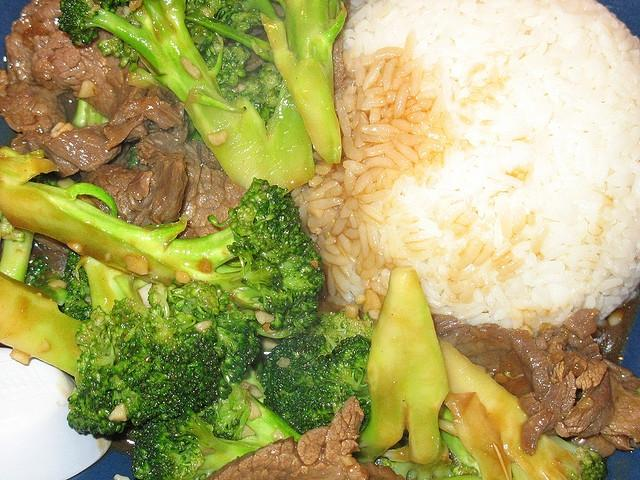broccoli: (1, 146, 326, 339), (57, 2, 315, 195), (68, 257, 264, 443), (437, 334, 609, 480), (353, 271, 451, 469), (239, 0, 348, 166), (260, 311, 376, 435), (131, 410, 262, 480), (0, 271, 82, 376), (0, 172, 61, 283), (200, 386, 252, 440), (23, 259, 68, 306), (216, 42, 251, 88), (69, 99, 109, 128)
